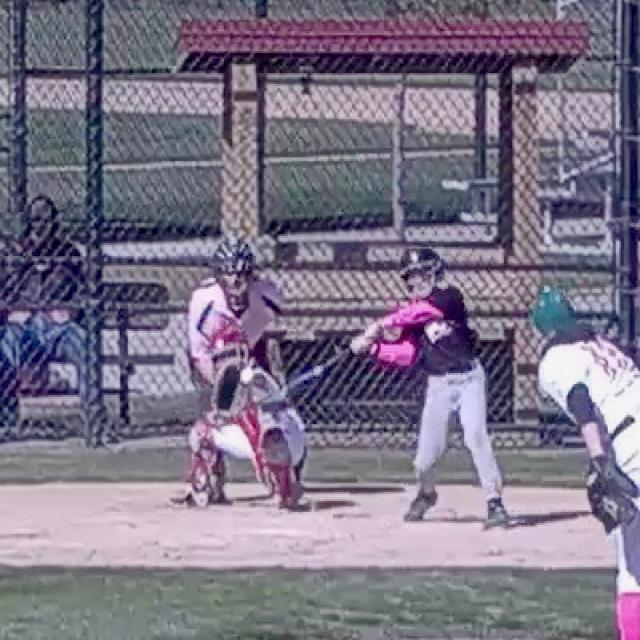ball: (242, 369, 256, 386)
bat: (260, 346, 356, 408)
